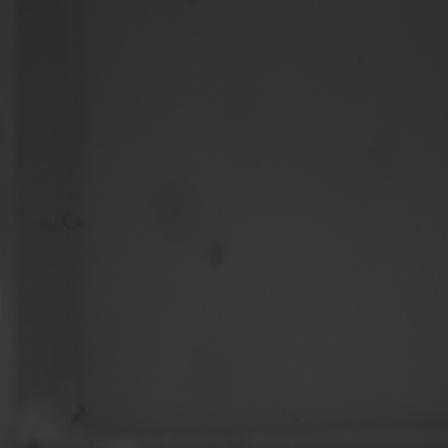Jentik-Nyamuk: (61, 206, 85, 232)
